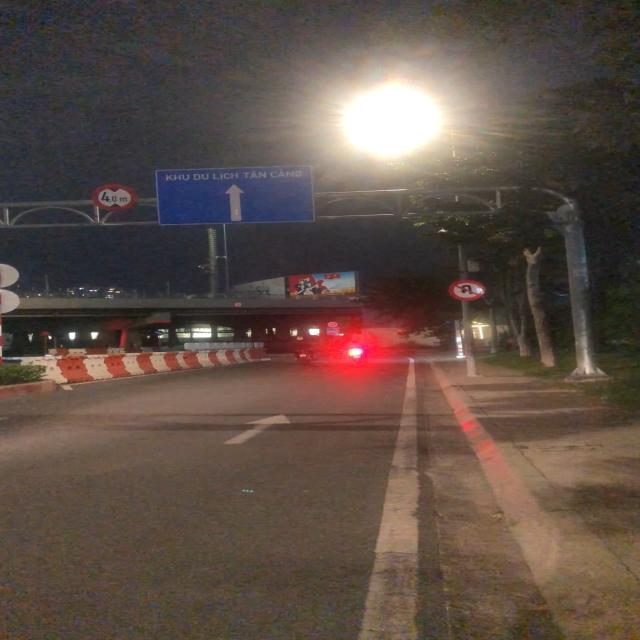Bien bao cam quay dau xe: (446, 278, 489, 302)
Bien bao han che chieu cao: (90, 183, 140, 212)
